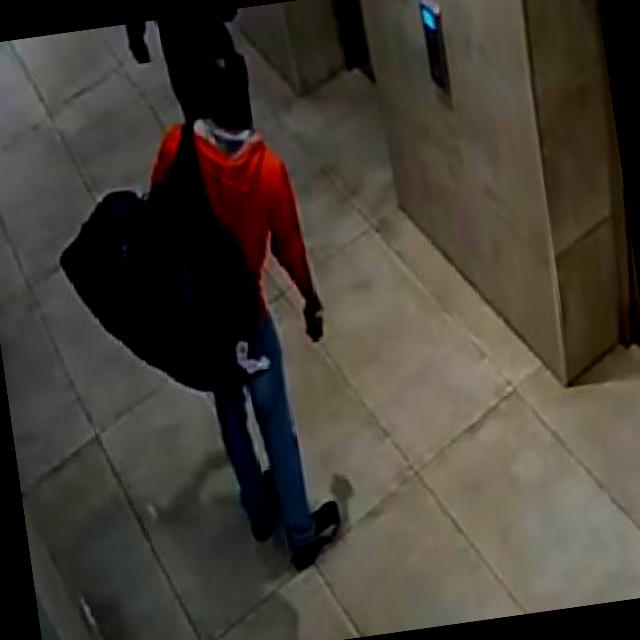Person: (108, 28, 370, 586)
